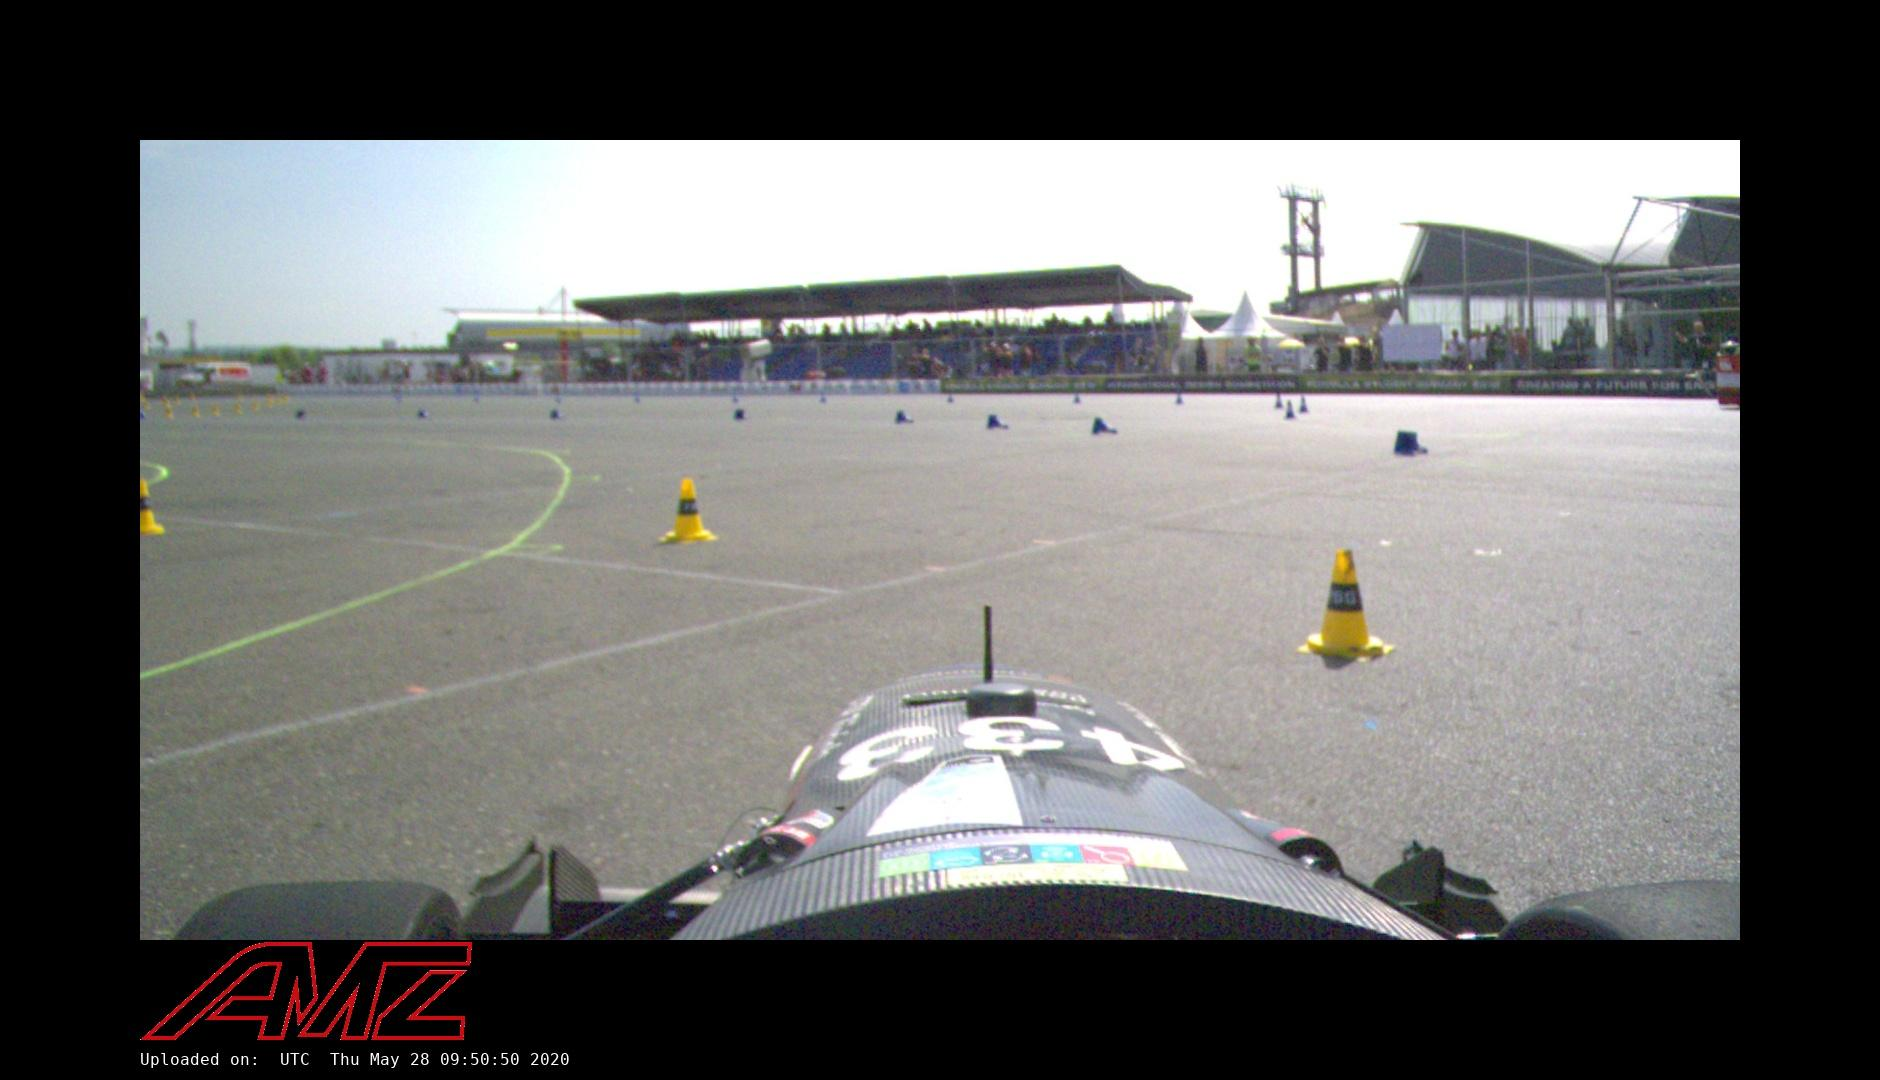blue_cone: (1391, 429, 1431, 456), (1091, 417, 1121, 435), (984, 413, 1011, 431), (894, 410, 915, 425), (1296, 395, 1311, 413), (1283, 400, 1296, 420), (1273, 391, 1285, 408)
yellow_cone: (1299, 546, 1397, 663), (659, 475, 717, 545), (139, 475, 170, 537)
